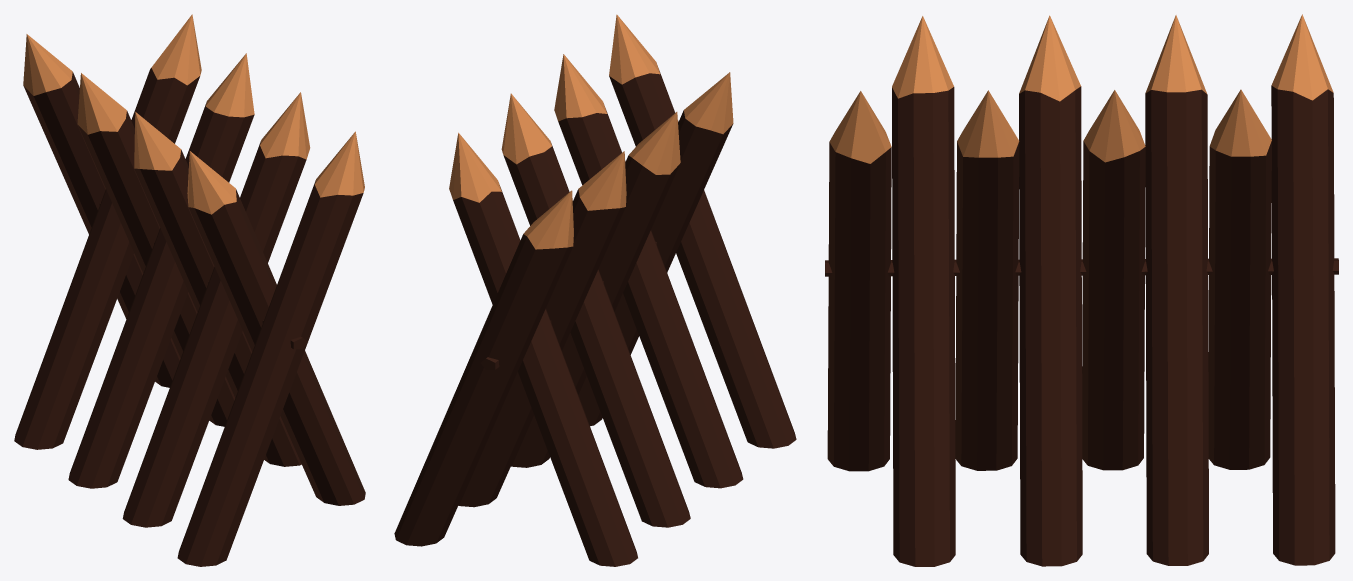
File: pinchos1.fbx
The picture shows the model from 3 angles, left to right: view 1: azimuth 30°, elevation 25°; view 2: azimuth 150°, elevation 25°; view 3: azimuth 270°, elevation 25°; orthographic projection. The views are drawn at different scales.
Parts seen in each view (by area): view 1: stockade2 v:178 f:174; view 2: stockade2 v:178 f:174; view 3: stockade2 v:178 f:174.
Boxes of the visible parts, x1,y1,x2,y2 form: stockade2 v:178 f:174: (14,14,365,566); stockade2 v:178 f:174: (394,14,796,566); stockade2 v:178 f:174: (825,14,1338,566).
Bounding box in the file's own units: 234 × 411 × 419.
